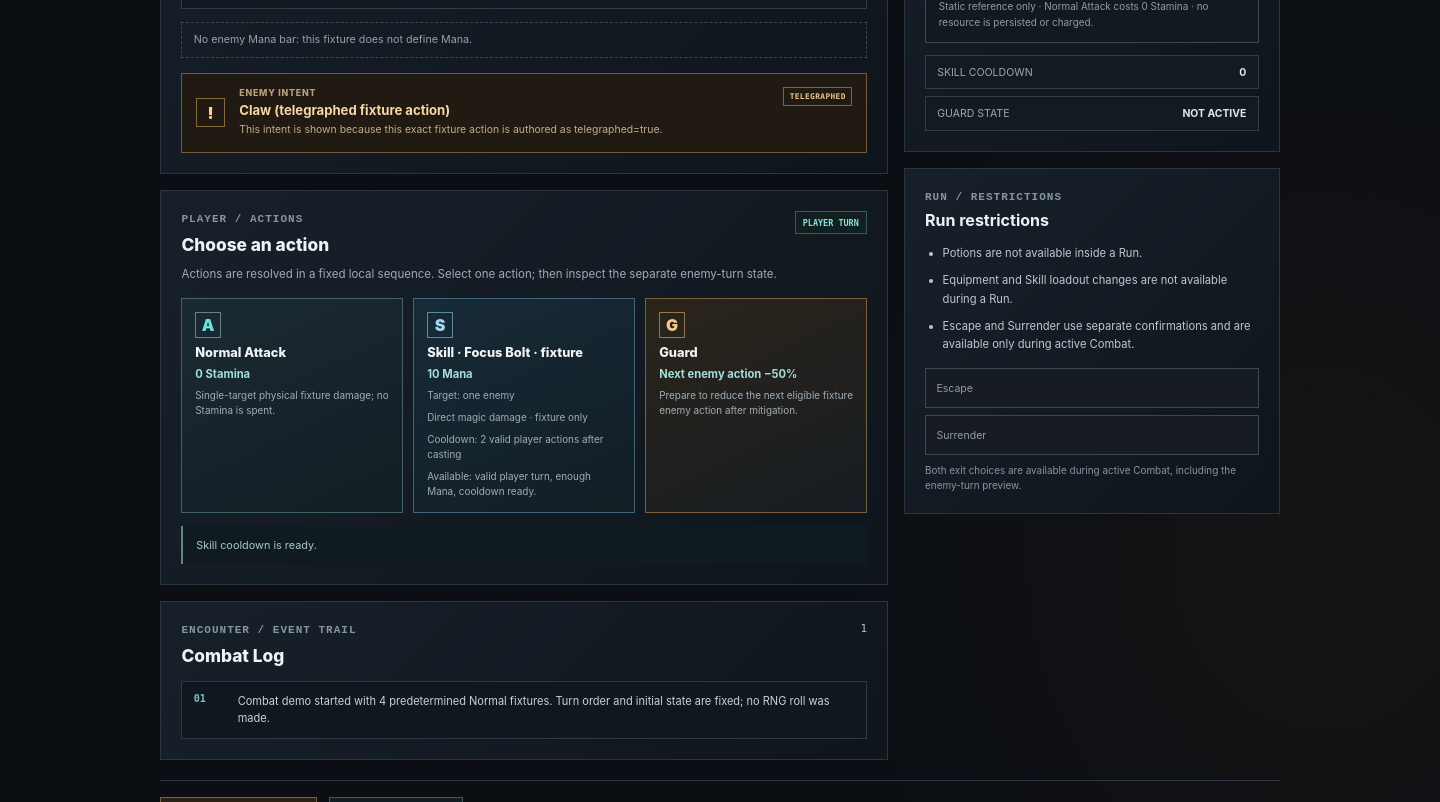
it: P1-UI-006 Escape and Surrender confirmations › keeps Surrender available only in active Combat and preserves current HP with no death/refund
The image size is (1440, 802).
(page scrolled)
Expected: the button with test id "combat-action-surrender" is enabled, [925, 415, 1258, 455]
Click the button with test id "combat-action-attack". click: (292,406)
box: [182, 298, 403, 513]
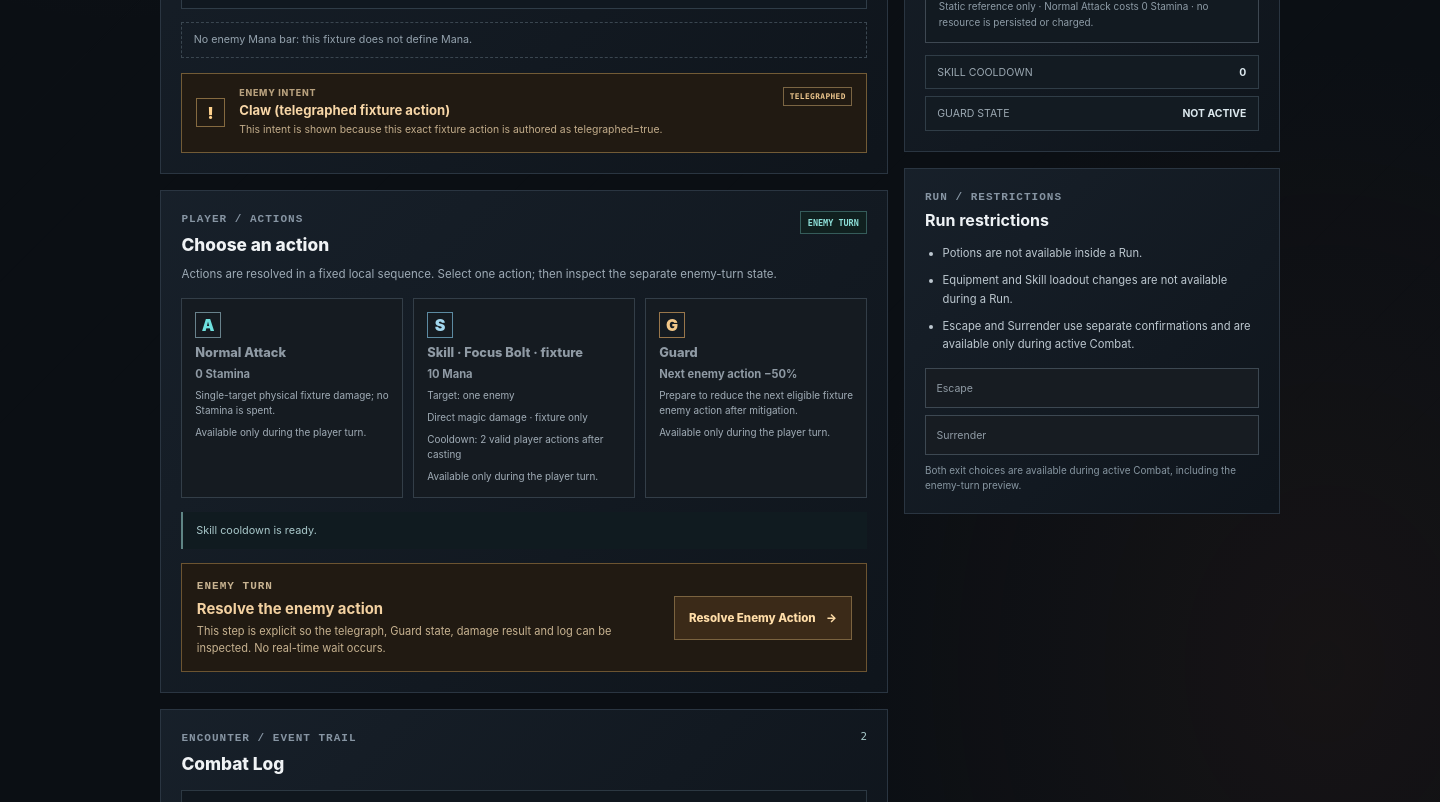
Click the button with test id "combat-action-surrender". click: (961,435)
box: [925, 415, 1258, 455]
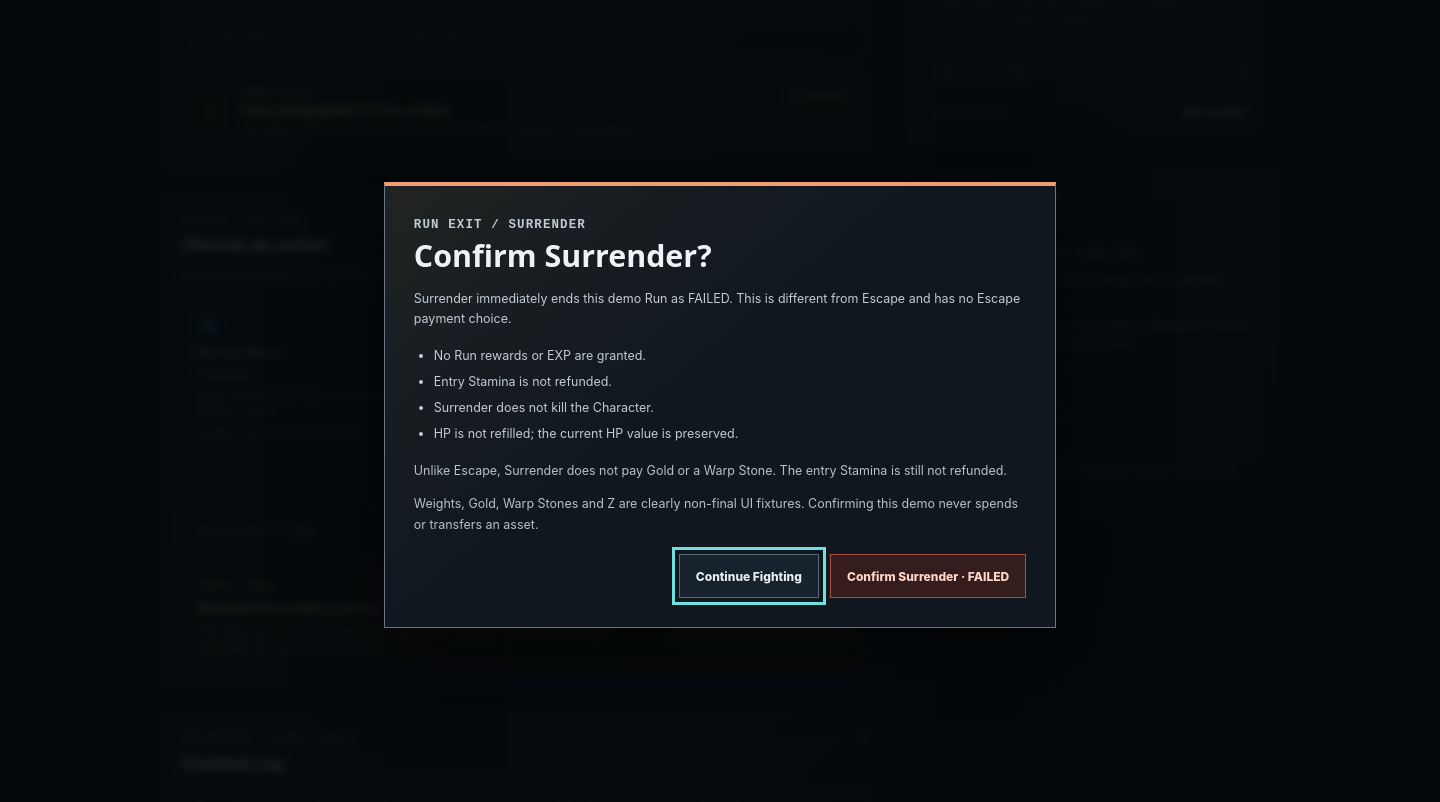
Result: the dialog "Confirm Surrender?" is shown at [384, 182, 1056, 628]
Result: the list item "No Run rewards or EXP are granted." is shown at [434, 348, 646, 363]
Result: the list item "Entry Stamina is not refunded." is shown at [434, 374, 612, 389]
Click the button with test id "combat-surrender-cancel". click: (749,576)
box: [679, 554, 819, 598]
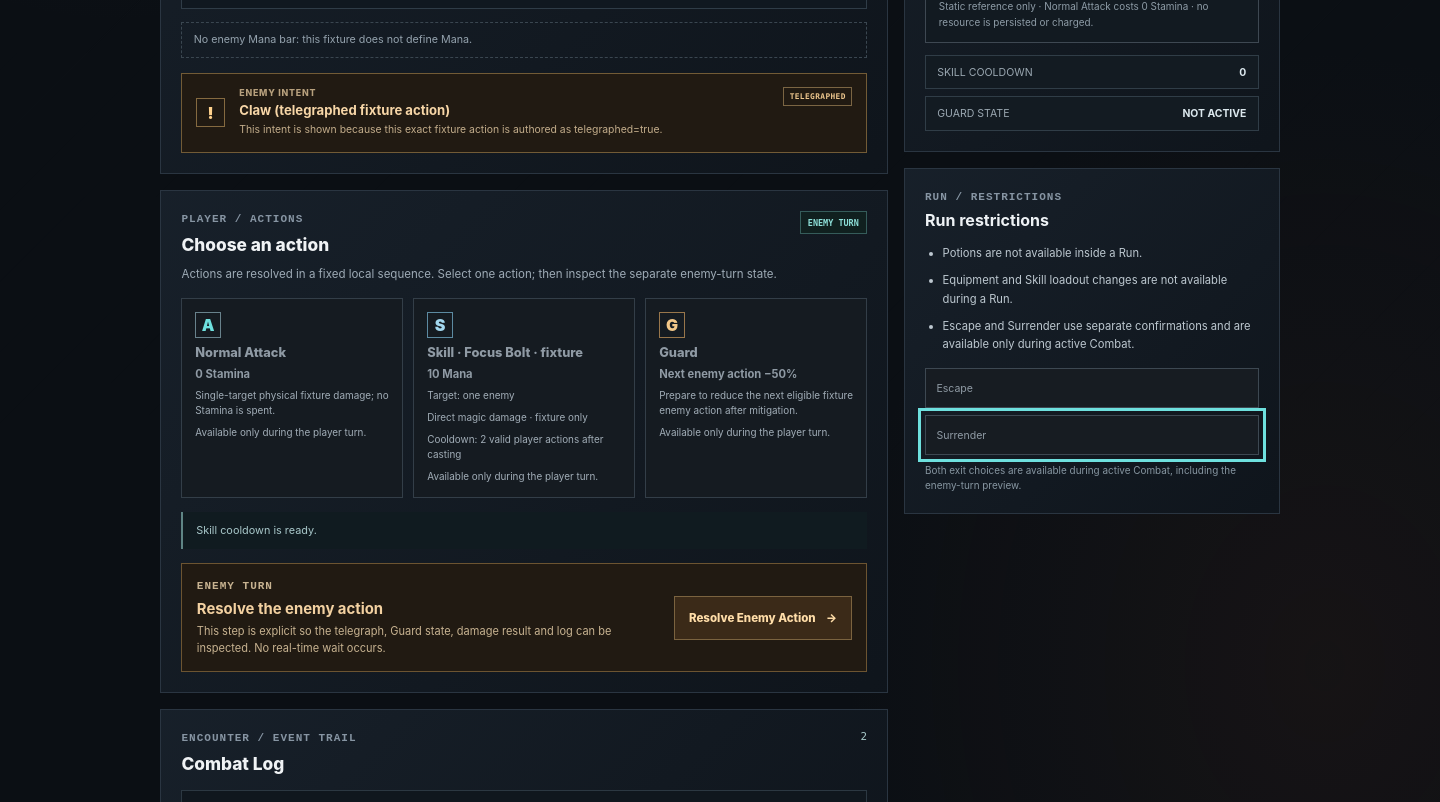
Result: the dialog is gone
Click the button with test id "combat-action-surrender". click: (961,435)
box: [925, 415, 1258, 455]
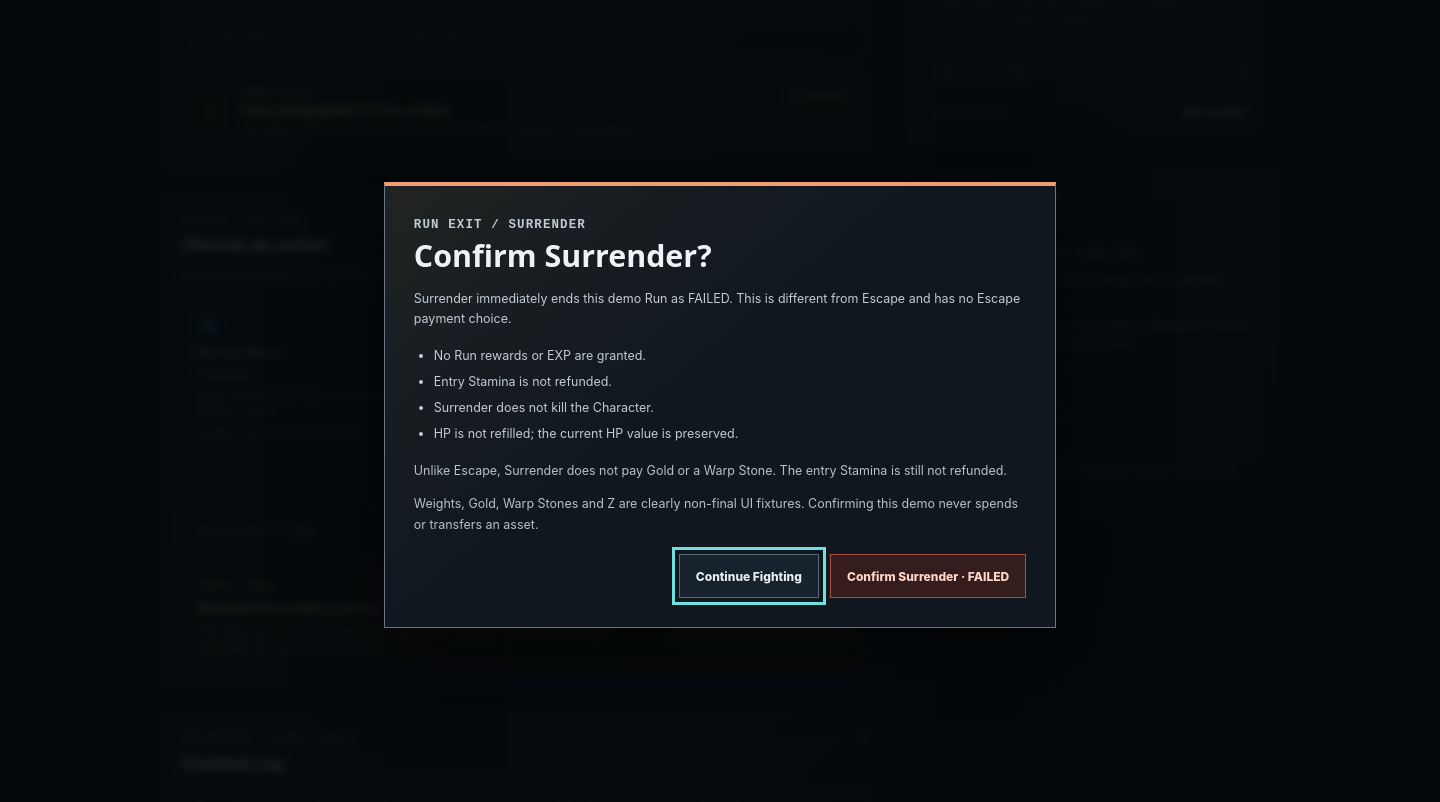
Click the button with test id "combat-exit-confirm-surrender". click: (928,576)
box: [830, 554, 1026, 598]
(page scrolled)
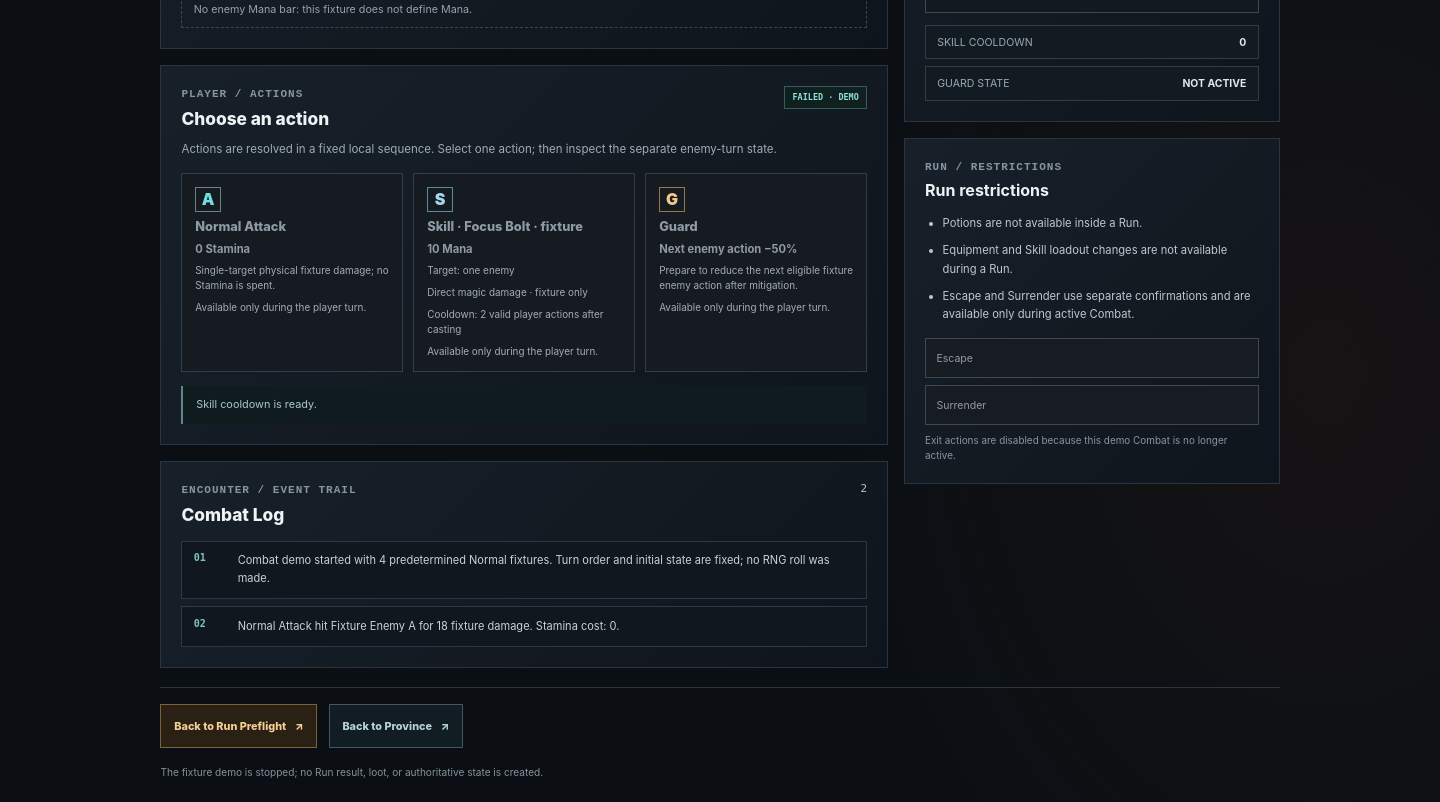
Result: the button with test id "combat-action-surrender" is disabled at [925, 385, 1258, 425]
